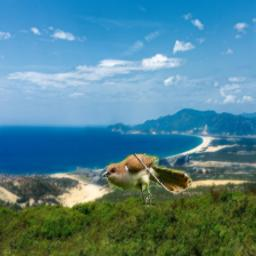Cuckoo: (101, 154, 192, 208)
